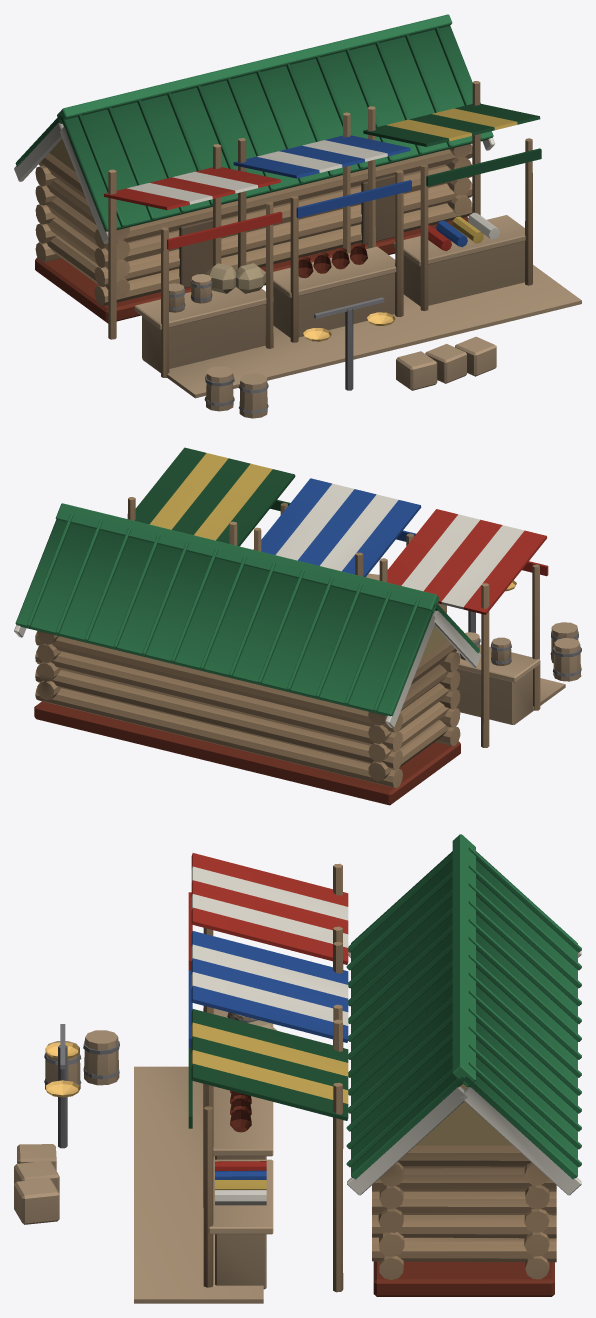
File: bld_market_e2.glb
The picture shows the model from 3 angles, top to bottom: view 1: azimuth 30°, elevation 25°; view 2: azimuth 150°, elevation 25°; view 3: azimuth 270°, elevation 25°; orthographic projection. The views are drawn at different scales.
Visible parts, largest first — view 1: market; view 2: market; view 3: market.
Boxes of the visible parts, x1,y1,x2,y2 form: market: [14, 14, 581, 418]; market: [14, 447, 581, 805]; market: [14, 834, 581, 1303].
Bounding box in the file's own units: 1.72 × 0.8091 × 1.75.
